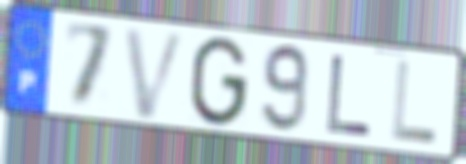7: (63, 19, 114, 113)
9: (256, 42, 311, 137)
G: (186, 34, 252, 130)
L: (323, 52, 375, 140), (389, 58, 440, 147)
V: (120, 25, 191, 121)
